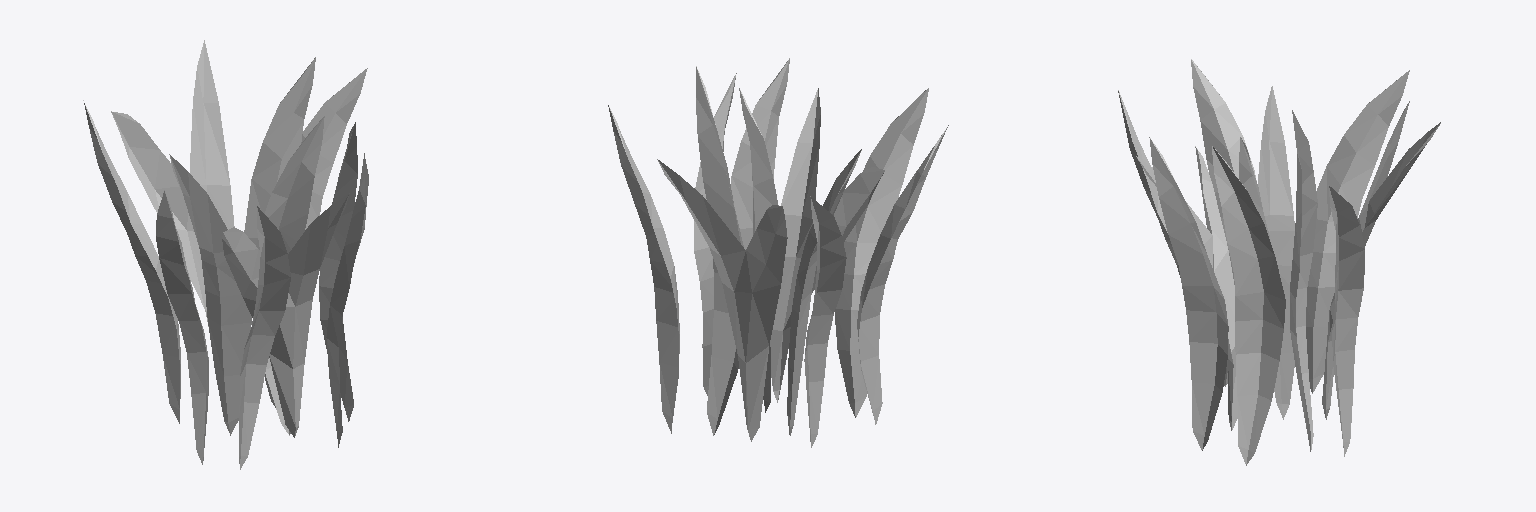
Rendered from Grass_Wide_Short.obj.
3 views of the same model, side by side, from view 1: azimuth 30°, elevation 25°; view 2: azimuth 150°, elevation 25°; view 3: azimuth 270°, elevation 25° (orthographic).
Visible parts, largest first — view 1: Grass_Wide_Short; view 2: Grass_Wide_Short; view 3: Grass_Wide_Short.
Boxes of the visible parts, x1=… form: Grass_Wide_Short: x1=83, y1=40, x2=368, y2=469; Grass_Wide_Short: x1=608, y1=58, x2=948, y2=447; Grass_Wide_Short: x1=1118, y1=59, x2=1440, y2=465.
Bounding box in the file's own units: 1.04 × 1.3 × 1.07.